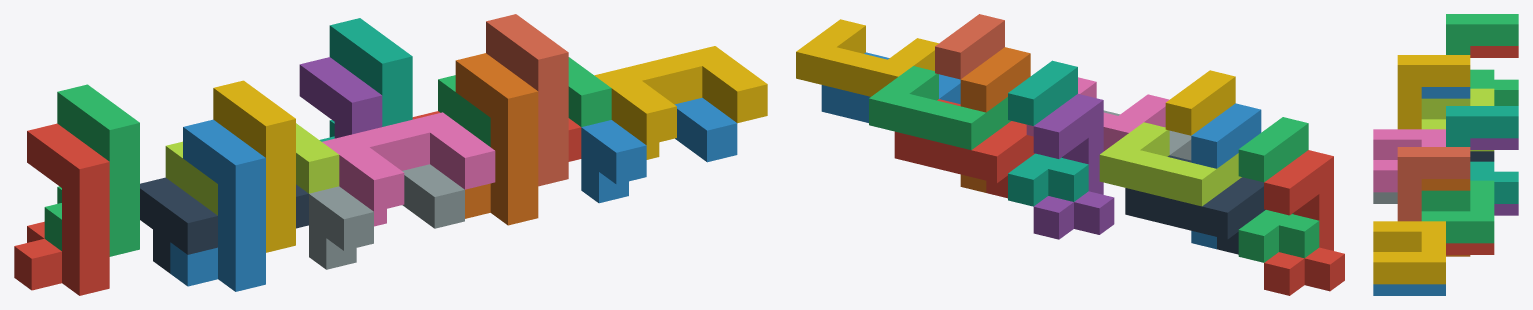
Rendered from tiling.obj.
3 views of the same model, side by side, from view 1: azimuth 30°, elevation 25°; view 2: azimuth 150°, elevation 25°; view 3: azimuth 270°, elevation 25° (orthographic). The views are drawn at different scales.
Parts seen in each view (by area): view 1: copy_1_domain_1, copy_1_domain_2, copy_2_domain_4, copy_2_domain_8, copy_1_domain_6, copy_1_domain_3, copy_2_domain_6, copy_2_domain_2, copy_1_domain_8, copy_1_domain_4, copy_1_domain_7, copy_2_domain_1 (+4 smaller); view 2: copy_1_domain_1, copy_1_domain_5, copy_2_domain_3, copy_2_domain_7, copy_1_domain_3, copy_1_domain_7, copy_2_domain_8, copy_2_domain_1, copy_2_domain_5, copy_1_domain_6, copy_1_domain_2, copy_1_domain_4 (+4 smaller); view 3: copy_2_domain_8, copy_1_domain_7, copy_1_domain_3, copy_2_domain_7, copy_1_domain_4, copy_1_domain_8, copy_2_domain_4, copy_2_domain_3, copy_1_domain_5, copy_2_domain_6, copy_1_domain_6, copy_1_domain_2 (+4 smaller).
Boxes of the visible parts, x1=… form: copy_1_domain_1: x1=14, y1=123, x2=109, y2=295; copy_1_domain_2: x1=170, y1=119, x2=265, y2=291; copy_2_domain_4: x1=322, y1=112, x2=495, y2=226; copy_2_domain_8: x1=594, y1=46, x2=767, y2=159; copy_1_domain_6: x1=455, y1=53, x2=538, y2=225; copy_1_domain_3: x1=44, y1=84, x2=139, y2=256; copy_2_domain_6: x1=581, y1=97, x2=737, y2=203; copy_2_domain_2: x1=309, y1=164, x2=464, y2=269; copy_1_domain_8: x1=486, y1=14, x2=568, y2=186; copy_1_domain_4: x1=213, y1=80, x2=295, y2=252; copy_1_domain_7: x1=319, y1=18, x2=412, y2=141; copy_2_domain_1: x1=140, y1=177, x2=308, y2=273; copy_1_domain_1: x1=1264, y1=150, x2=1344, y2=295; copy_1_domain_5: x1=1033, y1=94, x2=1114, y2=239; copy_2_domain_3: x1=1099, y1=122, x2=1241, y2=206; copy_2_domain_7: x1=869, y1=66, x2=1010, y2=150; copy_1_domain_3: x1=1238, y1=117, x2=1319, y2=262; copy_1_domain_7: x1=1008, y1=60, x2=1088, y2=206; copy_2_domain_8: x1=796, y1=19, x2=938, y2=96; copy_2_domain_1: x1=1125, y1=155, x2=1265, y2=254; copy_2_domain_5: x1=894, y1=99, x2=1034, y2=198; copy_1_domain_6: x1=960, y1=47, x2=1030, y2=192; copy_1_domain_2: x1=1191, y1=103, x2=1261, y2=249; copy_1_domain_4: x1=1165, y1=70, x2=1235, y2=135; copy_2_domain_8: x1=1373, y1=221, x2=1445, y2=284; copy_1_domain_7: x1=1446, y1=106, x2=1518, y2=203; copy_1_domain_3: x1=1446, y1=14, x2=1518, y2=105; copy_2_domain_7: x1=1421, y1=180, x2=1494, y2=243; copy_1_domain_4: x1=1397, y1=55, x2=1470, y2=129; copy_1_domain_8: x1=1397, y1=147, x2=1470, y2=221; copy_2_domain_4: x1=1373, y1=129, x2=1445, y2=192; copy_2_domain_3: x1=1421, y1=88, x2=1494, y2=151; copy_1_domain_5: x1=1470, y1=138, x2=1518, y2=215; copy_2_domain_6: x1=1373, y1=284, x2=1445, y2=295; copy_1_domain_6: x1=1421, y1=179, x2=1470, y2=256; copy_1_domain_2: x1=1421, y1=87, x2=1470, y2=98.
Bounding box in the file's own units: 22 × 5 × 6.
